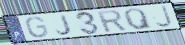3: (75, 10, 101, 36)
G: (25, 16, 51, 39)
J: (155, 4, 175, 28), (55, 14, 73, 36)
Q: (123, 7, 154, 30)
R: (95, 9, 129, 33)
